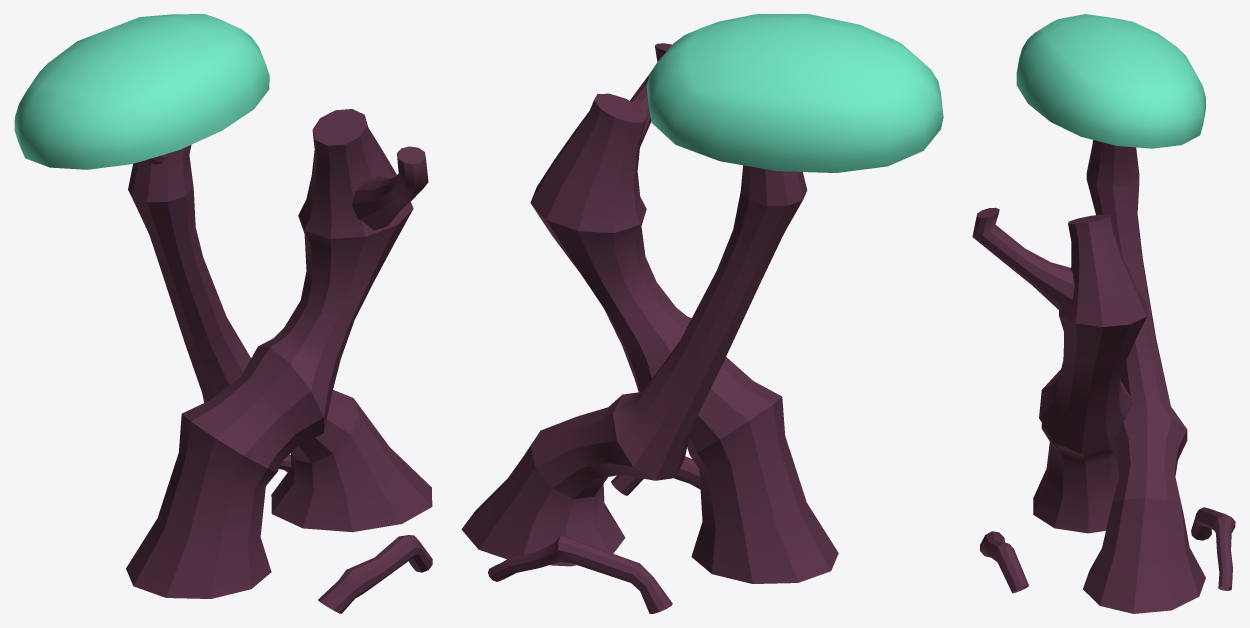
File: ArbreMere_Inter01.fbx
3 views of the same model, side by side, from view 1: azimuth 30°, elevation 25°; view 2: azimuth 150°, elevation 25°; view 3: azimuth 270°, elevation 25° (orthographic). The views are drawn at different scales.
Parts seen in each view (by area): view 1: ArbreMere_Inter01; view 2: ArbreMere_Inter01; view 3: ArbreMere_Inter01.
Boxes of the visible parts, x1=… form: ArbreMere_Inter01: x1=14, y1=14, x2=432, y2=613; ArbreMere_Inter01: x1=461, y1=14, x2=943, y2=613; ArbreMere_Inter01: x1=972, y1=14, x2=1235, y2=613.
Size of the model in its own units: 562 by 699 by 353.
